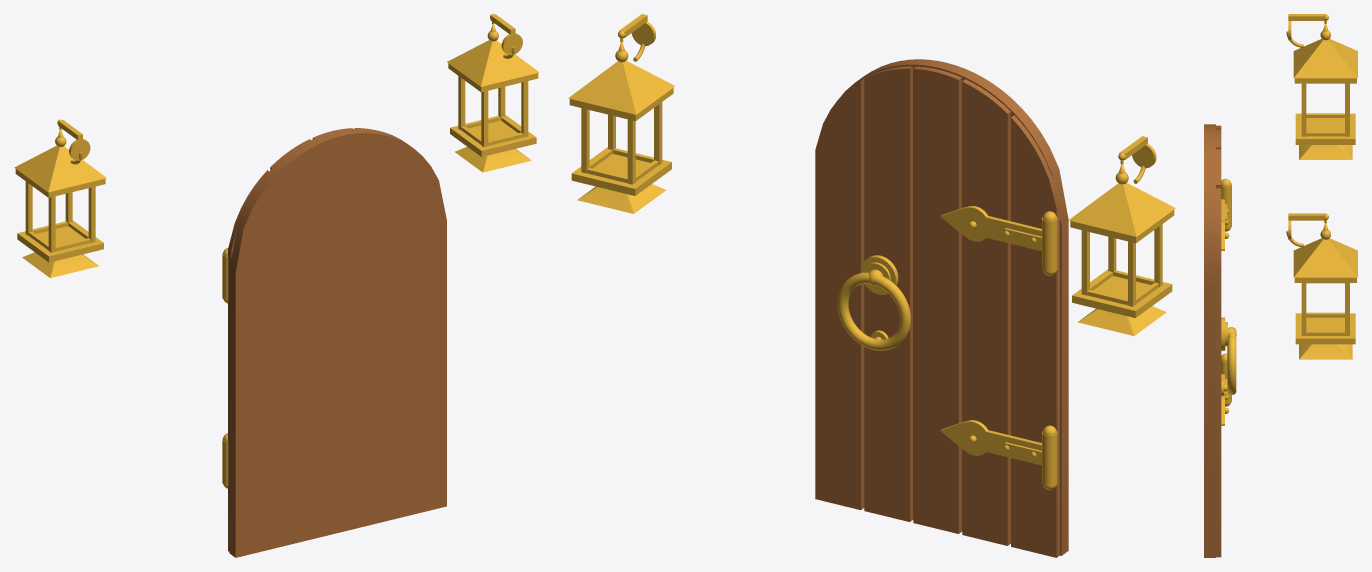
Rendered from HaloDomeHouse_07_ornaments.glb.
3 views of the same model, side by side, from view 1: azimuth 30°, elevation 25°; view 2: azimuth 150°, elevation 25°; view 3: azimuth 270°, elevation 25° (orthographic). The views are drawn at different scales.
Visible parts, largest first — view 1: Orn_H07_Leaf, Orn_H07_LanternL, Orn_H07_LanternR; view 2: Orn_H07_Leaf, Orn_H07_LanternL, Orn_H07_LanternR, Orn_H07_HingeLow, Orn_H07_HingeTop, Orn_H07_Knocker; view 3: Orn_H07_Leaf, Orn_H07_LanternR, Orn_H07_LanternL, Orn_H07_Knocker, Orn_H07_HingeTop, Orn_H07_HingeLow.
Part boxes in pixels (x1,y1,x2,y2): Orn_H07_Leaf: (228,128,446,557); Orn_H07_LanternL: (14,119,106,277); Orn_H07_LanternR: (447,14,539,172); Orn_H07_Leaf: (815,59,1068,557); Orn_H07_LanternL: (1068,136,1175,335); Orn_H07_LanternR: (568,14,675,213); Orn_H07_HingeLow: (940,420,1057,490); Orn_H07_HingeTop: (940,206,1057,275); Orn_H07_Knocker: (837,255,910,350); Orn_H07_Leaf: (1204,124,1221,557); Orn_H07_LanternR: (1286,213,1357,359); Orn_H07_LanternL: (1286,14,1357,159); Orn_H07_Knocker: (1221,317,1236,395); Orn_H07_HingeTop: (1221,178,1231,250); Orn_H07_HingeLow: (1221,353,1231,425).
Size of the model in its own units: 10 by 8.13 by 2.87.
